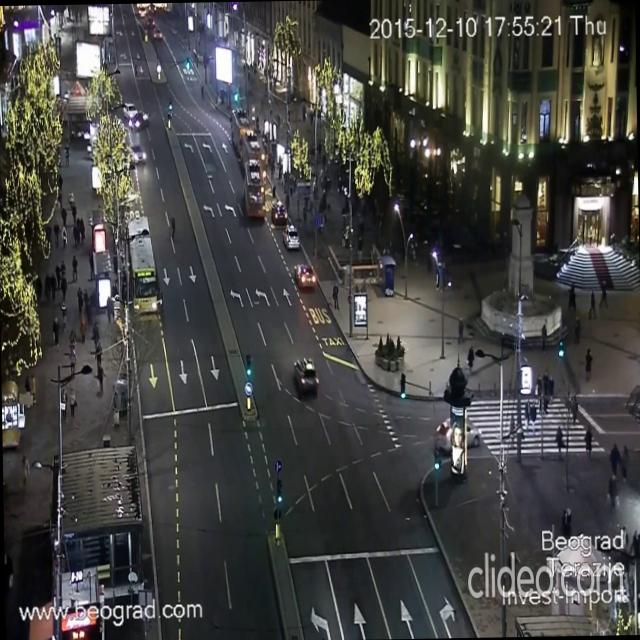bus: (128, 214, 160, 312), (244, 156, 266, 216), (237, 124, 261, 162), (228, 104, 249, 143)
car: (435, 412, 481, 446), (293, 356, 319, 394), (293, 262, 315, 290), (129, 112, 148, 130), (285, 227, 299, 250), (131, 146, 145, 166), (274, 198, 284, 222), (125, 100, 134, 120), (152, 22, 160, 38)
